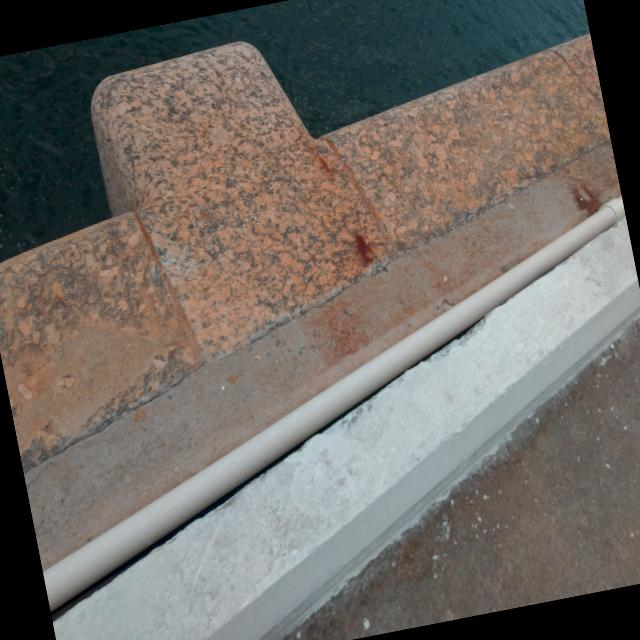gas: (42, 193, 625, 609)
